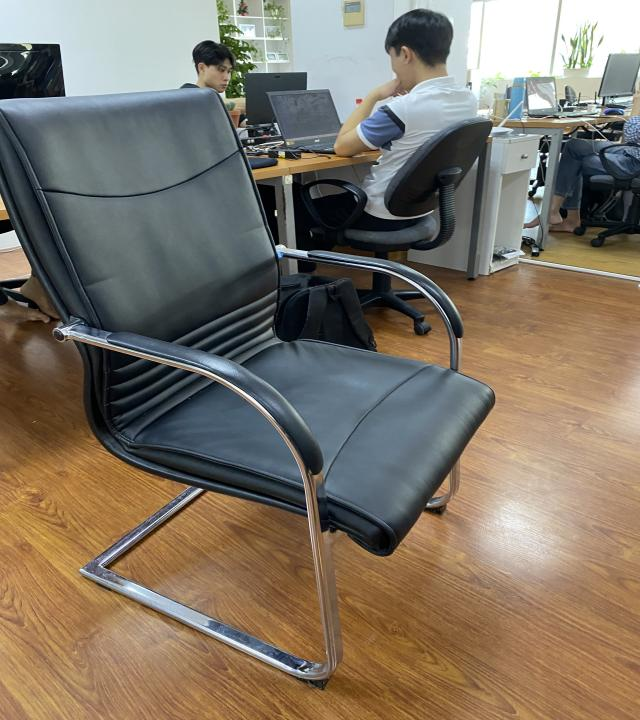SS_03: (5, 82, 498, 688)
